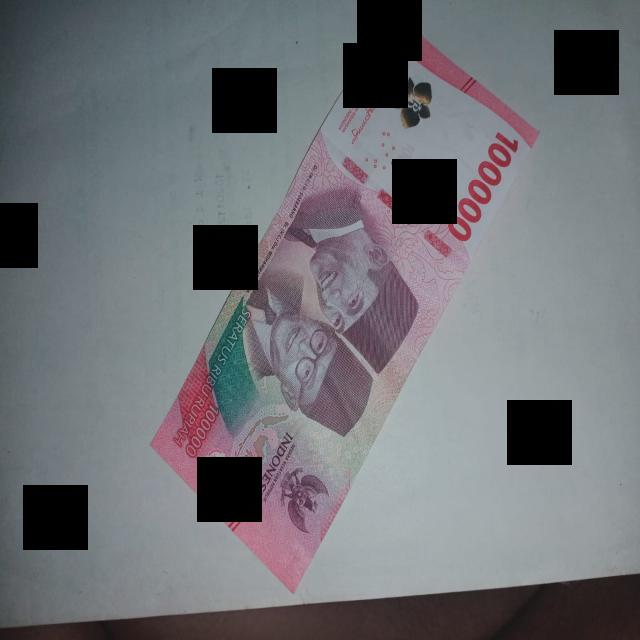seratusribu rupiah: (152, 10, 538, 591)
